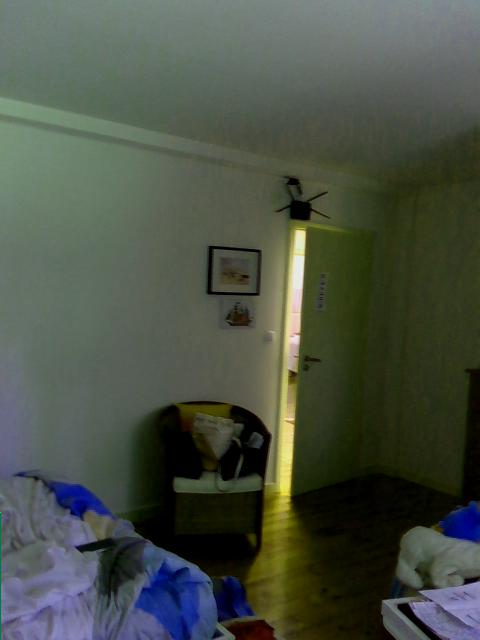semi_door: (268, 214, 380, 506)
